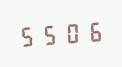five: (18, 22, 38, 48), (39, 21, 59, 47)
six: (81, 18, 101, 44)
zero: (60, 20, 80, 45)
